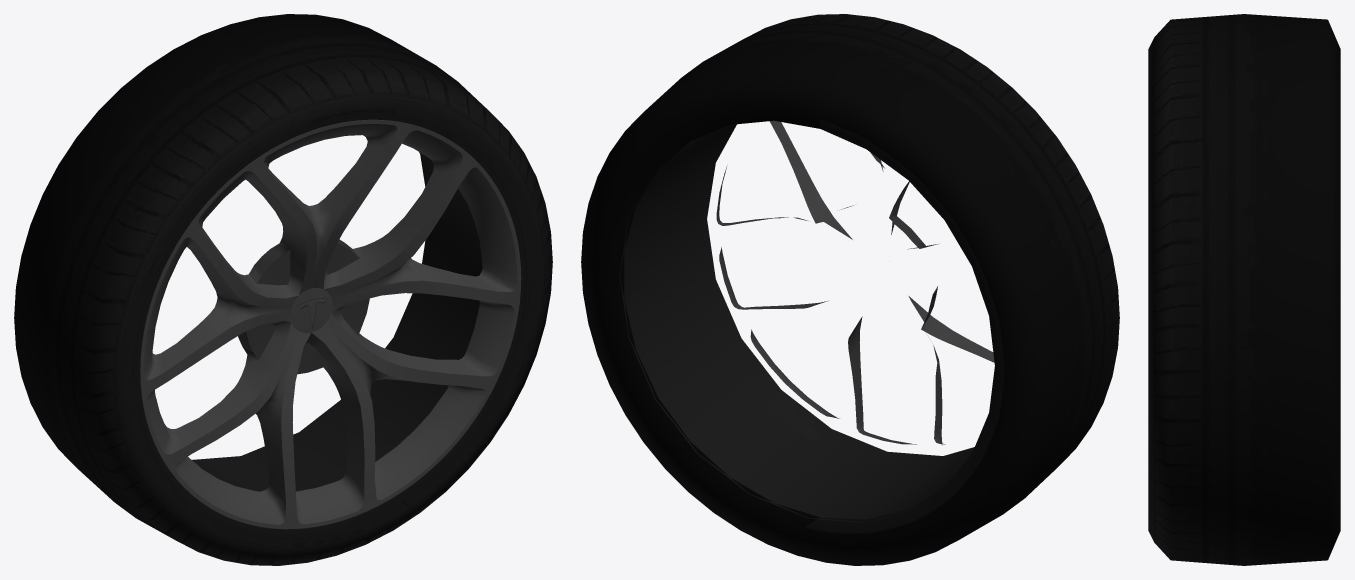
Rendered from Wheel_ZeroG.glb.
The picture shows the model from 3 angles, left to right: view 1: azimuth 30°, elevation 25°; view 2: azimuth 150°, elevation 25°; view 3: azimuth 270°, elevation 25°; orthographic projection.
Parts seen in each view (by area): view 1: Wheel_ZeroG; view 2: Wheel_ZeroG; view 3: Wheel_ZeroG.
Part boxes in pixels (box(x1,y1,x2,y2)): Wheel_ZeroG: box(14, 14, 552, 565); Wheel_ZeroG: box(581, 14, 1119, 565); Wheel_ZeroG: box(1148, 14, 1340, 565).
Bounding box in the file's own units: 0.6765 × 0.6752 × 0.236.
2 materials, 2 textured.
